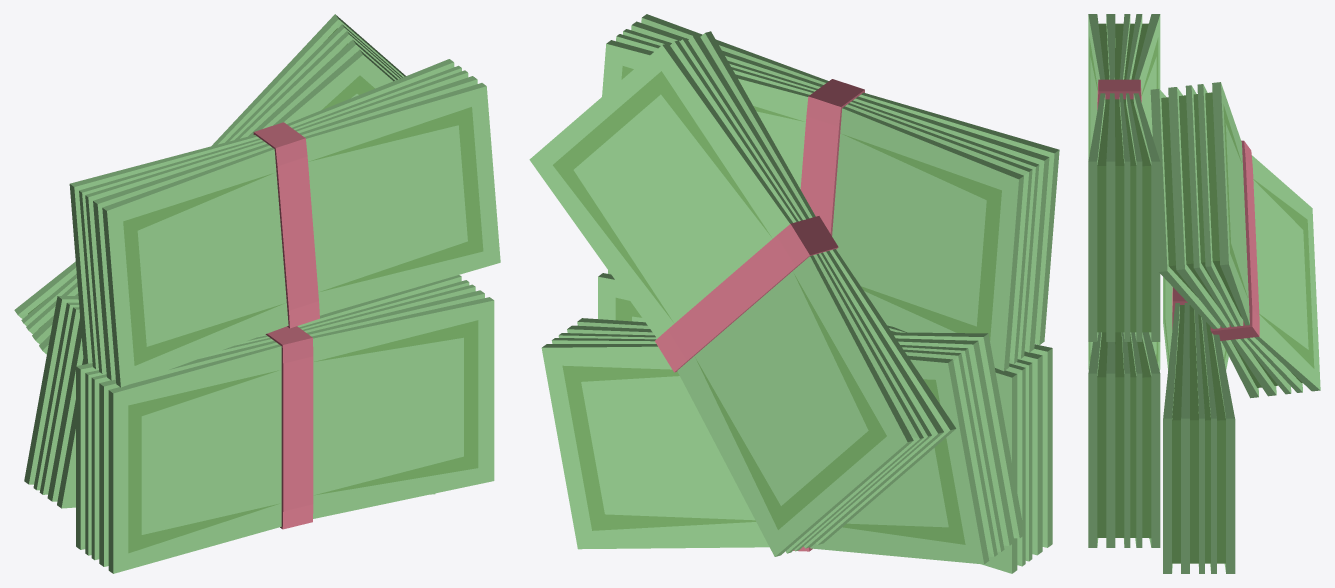
The model's file is dhan Cash Stack.fbx.
3 renders of one model, left to right at view 1: azimuth 30°, elevation 25°; view 2: azimuth 150°, elevation 25°; view 3: azimuth 270°, elevation 25°, orthographic. The views are drawn at different scales.
Visible parts, largest first — view 1: imagetostl_mesh8, imagetostl_mesh2, imagetostl_mesh11, imagetostl_mesh7, imagetostl_mesh1, imagetostl_mesh5, imagetostl_mesh6, imagetostl_mesh0, imagetostl_mesh10; view 2: imagetostl_mesh11, imagetostl_mesh5, imagetostl_mesh8, imagetostl_mesh2, imagetostl_mesh10, imagetostl_mesh4, imagetostl_mesh9, imagetostl_mesh6, imagetostl_mesh7; view 3: imagetostl_mesh11, imagetostl_mesh8, imagetostl_mesh5, imagetostl_mesh7, imagetostl_mesh2, imagetostl_mesh10, imagetostl_mesh4, imagetostl_mesh1, imagetostl_mesh9, imagetostl_mesh6.
Part boxes in pixels (bbox=[...]): imagetostl_mesh8: bbox=[69, 59, 500, 387]; imagetostl_mesh2: bbox=[76, 275, 494, 573]; imagetostl_mesh11: bbox=[14, 14, 405, 354]; imagetostl_mesh7: bbox=[123, 107, 483, 365]; imagetostl_mesh1: bbox=[128, 320, 478, 553]; imagetostl_mesh5: bbox=[24, 296, 435, 508]; imagetostl_mesh6: bbox=[253, 122, 319, 328]; imagetostl_mesh0: bbox=[265, 326, 313, 529]; imagetostl_mesh10: bbox=[28, 28, 374, 328]; imagetostl_mesh11: bbox=[529, 31, 956, 556]; imagetostl_mesh5: bbox=[541, 318, 1024, 564]; imagetostl_mesh8: bbox=[602, 14, 1059, 371]; imagetostl_mesh2: bbox=[598, 270, 1052, 573]; imagetostl_mesh10: bbox=[553, 71, 886, 529]; imagetostl_mesh4: bbox=[562, 365, 965, 544]; imagetostl_mesh9: bbox=[655, 216, 838, 372]; imagetostl_mesh6: bbox=[800, 79, 864, 235]; imagetostl_mesh7: bbox=[621, 66, 1001, 340]; imagetostl_mesh11: bbox=[1150, 82, 1320, 398]; imagetostl_mesh8: bbox=[1088, 14, 1160, 341]; imagetostl_mesh5: bbox=[1163, 277, 1235, 573]; imagetostl_mesh7: bbox=[1089, 23, 1158, 332]; imagetostl_mesh2: bbox=[1088, 332, 1160, 547]; imagetostl_mesh10: bbox=[1161, 92, 1314, 387]; imagetostl_mesh4: bbox=[1164, 278, 1226, 563]; imagetostl_mesh1: bbox=[1089, 332, 1158, 538]; imagetostl_mesh9: bbox=[1210, 140, 1259, 340]; imagetostl_mesh6: bbox=[1097, 79, 1141, 110].
Size of the model in its own units: 105 by 113 by 51.85.
